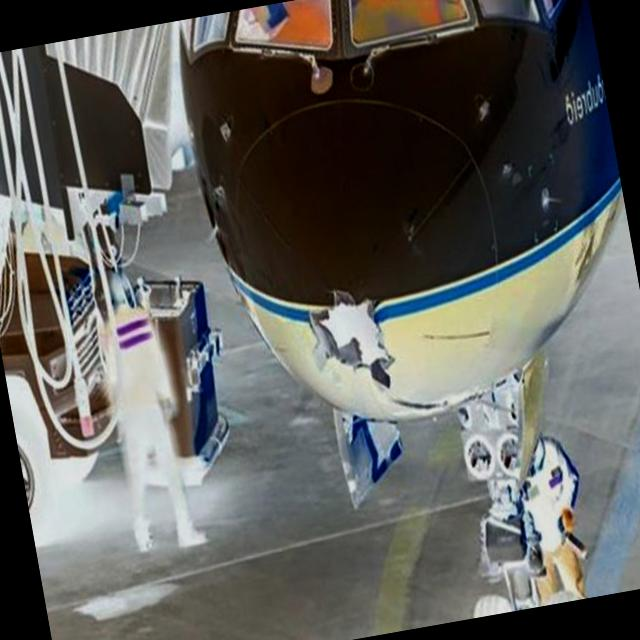crack: (300, 276, 408, 402)
